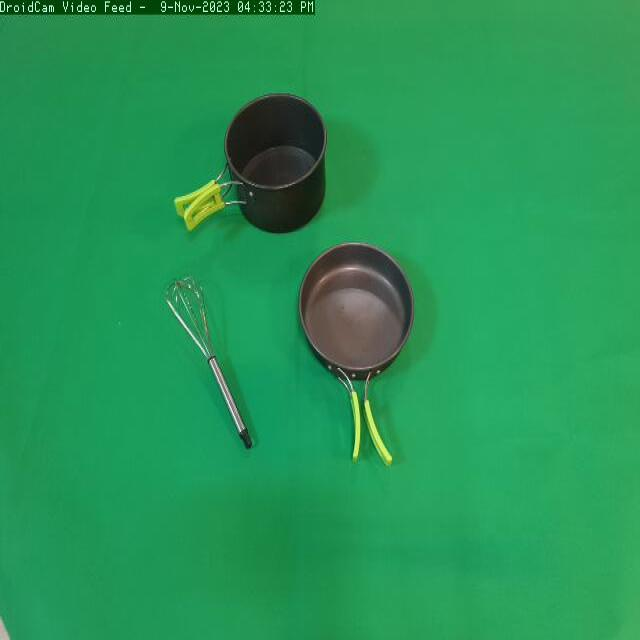pan: (294, 231, 430, 473)
pot: (170, 84, 334, 246)
whisk: (158, 266, 266, 454)
